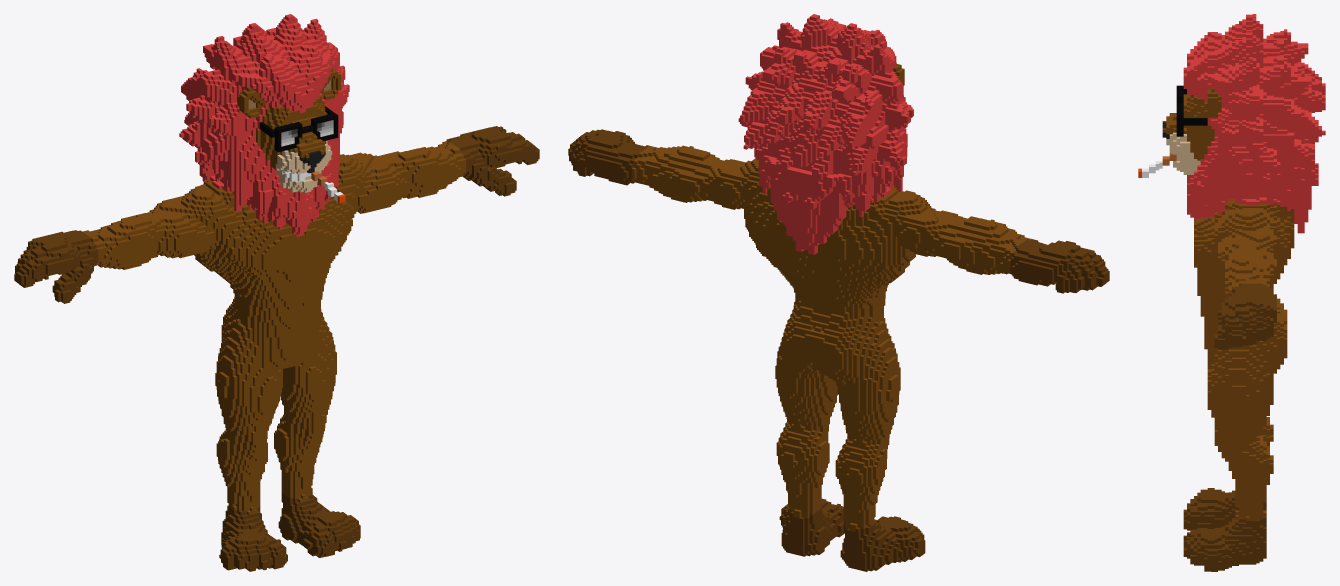
Rendered from 148-Bul0fdVp.glb.
3 renders of one model, left to right at view 1: azimuth 30°, elevation 25°; view 2: azimuth 150°, elevation 25°; view 3: azimuth 270°, elevation 25°, orthographic. The views are drawn at different scales.
Parts seen in each view (by area): view 1: cigarette; view 2: cigarette; view 3: cigarette.
Boxes of the visible parts, x1,y1,x2,y2 form: cigarette: [14, 14, 539, 571]; cigarette: [568, 14, 1109, 571]; cigarette: [1138, 14, 1325, 571].
Bounding box in the file's own units: 17.2 × 16.5 × 5.4.
Materials: 4 (4 with a texture image).
